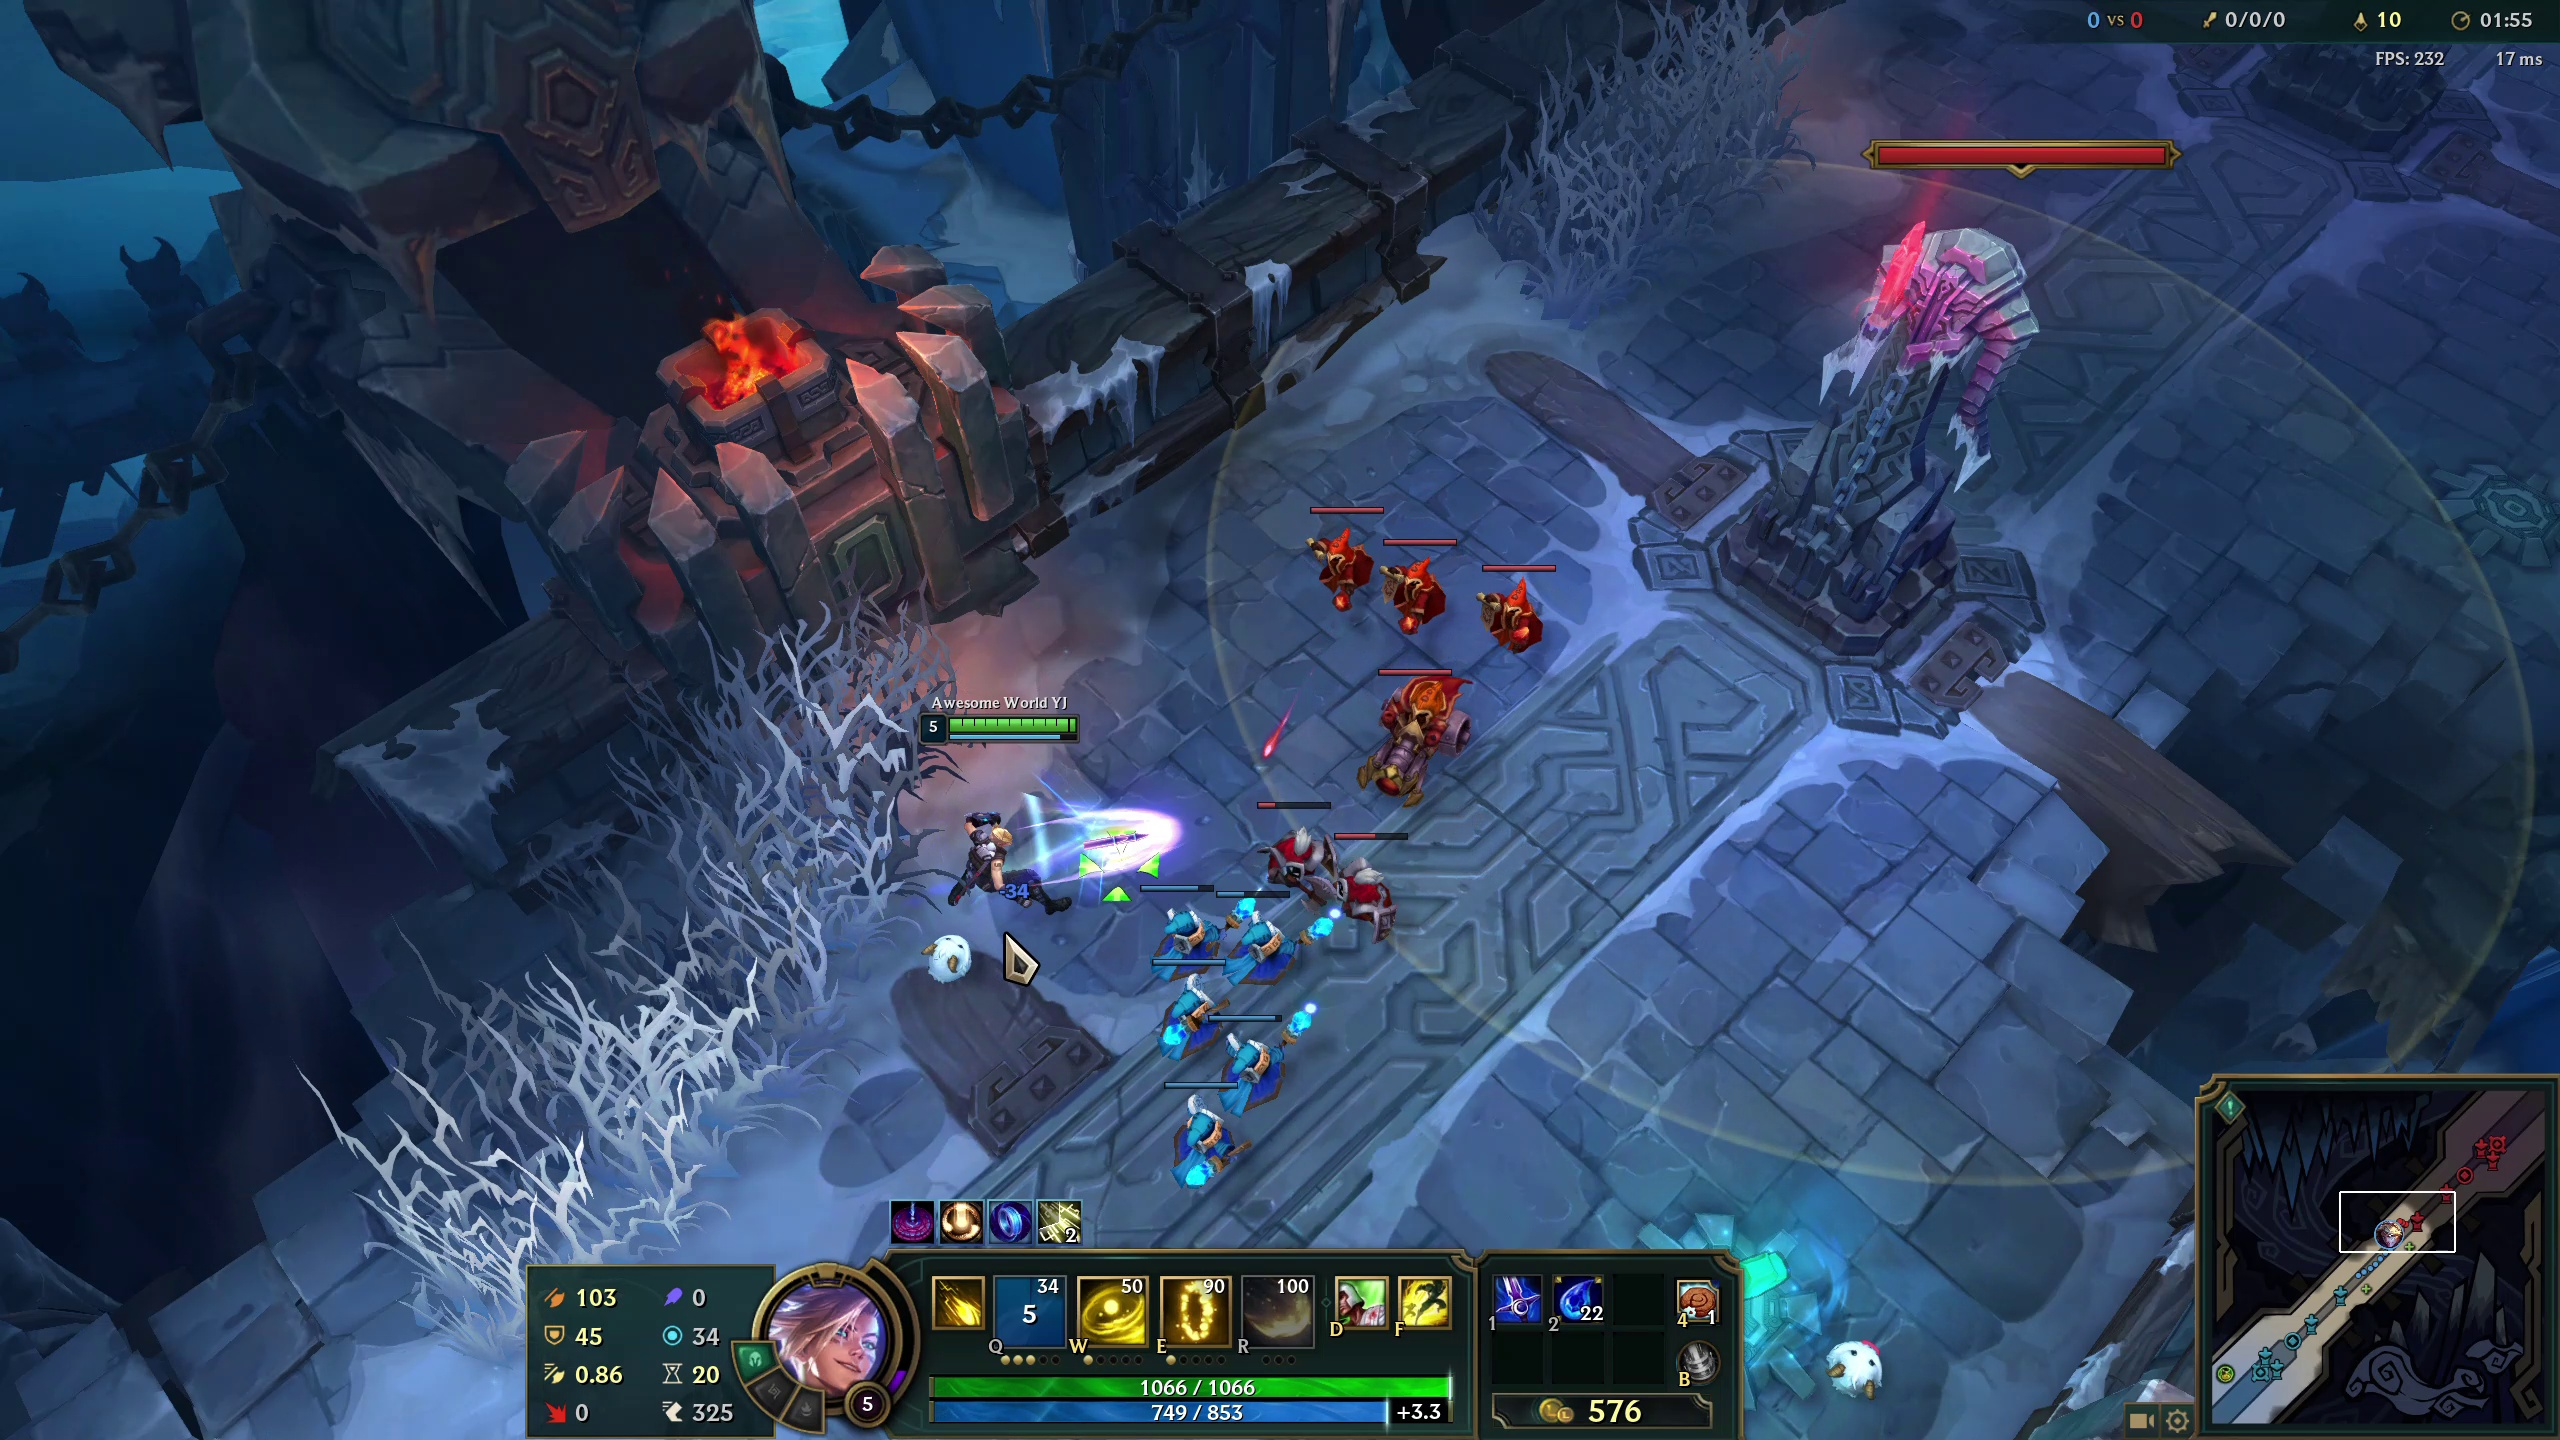EZ: (921, 693, 1078, 920)
EnemyMinion: (1299, 501, 1398, 593), (1366, 531, 1465, 622), (1322, 828, 1421, 920), (1473, 563, 1570, 652), (1248, 789, 1345, 879)
EnemySuperMinnion: (1364, 666, 1458, 784)
Glass: (425, 1015, 680, 1268), (665, 661, 920, 914), (1531, 56, 1792, 264)
MyMinion: (1146, 1080, 1257, 1199), (1203, 1002, 1313, 1122), (1138, 951, 1248, 1071), (1118, 860, 1229, 979), (1201, 879, 1312, 999)
Turret: (1800, 216, 1999, 644)
